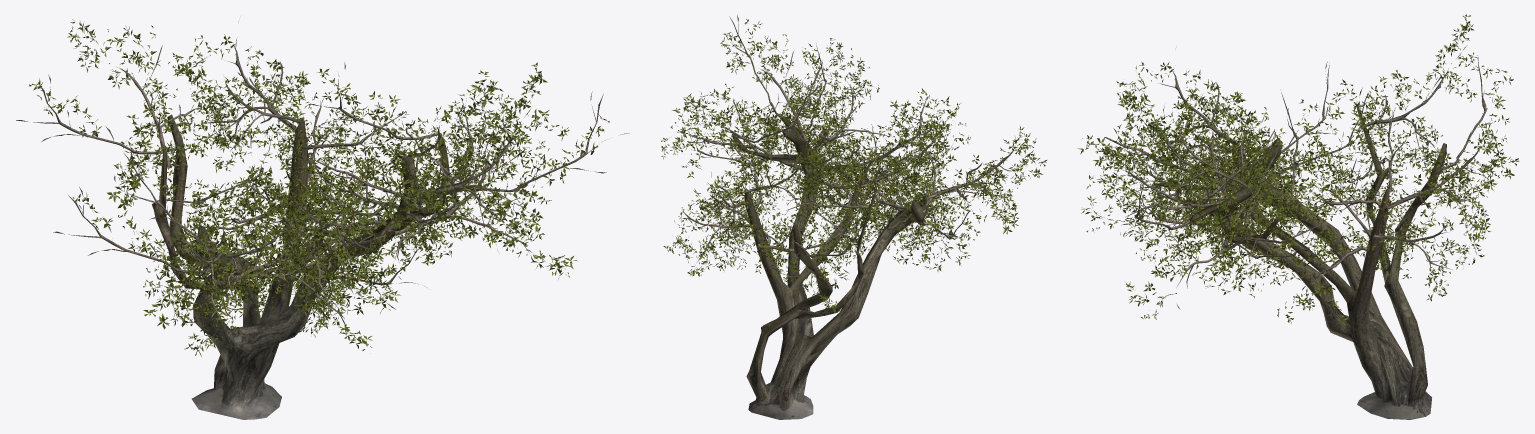
Rendered from island_tree_02.glb.
The picture shows the model from 3 angles, left to right: view 1: azimuth 30°, elevation 25°; view 2: azimuth 150°, elevation 25°; view 3: azimuth 270°, elevation 25°; orthographic projection. The views are drawn at different scales.
Visible parts, largest first — view 1: island_tree_02_LOD0; view 2: island_tree_02_LOD0; view 3: island_tree_02_LOD0.
Part boxes in pixels (x1,y1,x2,y2): island_tree_02_LOD0: [16, 19, 629, 419]; island_tree_02_LOD0: [661, 14, 1046, 419]; island_tree_02_LOD0: [1077, 14, 1519, 419].
Size of the model in its own units: 4.21 by 3.4 by 4.07.
3 materials, 3 textured.
